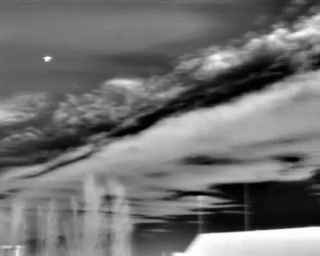BIRD: (41, 53, 54, 65)
